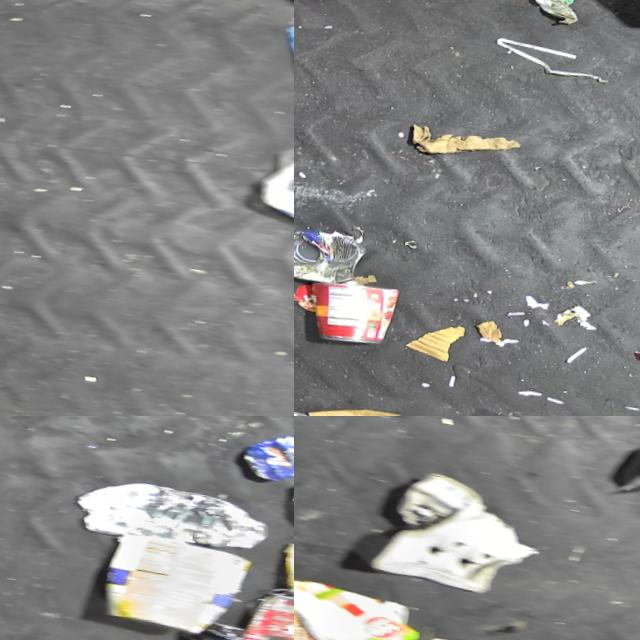can: (93, 529, 254, 640), (300, 272, 401, 358), (390, 467, 489, 547), (294, 219, 369, 296), (235, 425, 294, 504), (237, 596, 294, 640), (272, 548, 294, 612), (183, 625, 250, 640)
plastic_bottle: (67, 470, 273, 579)
